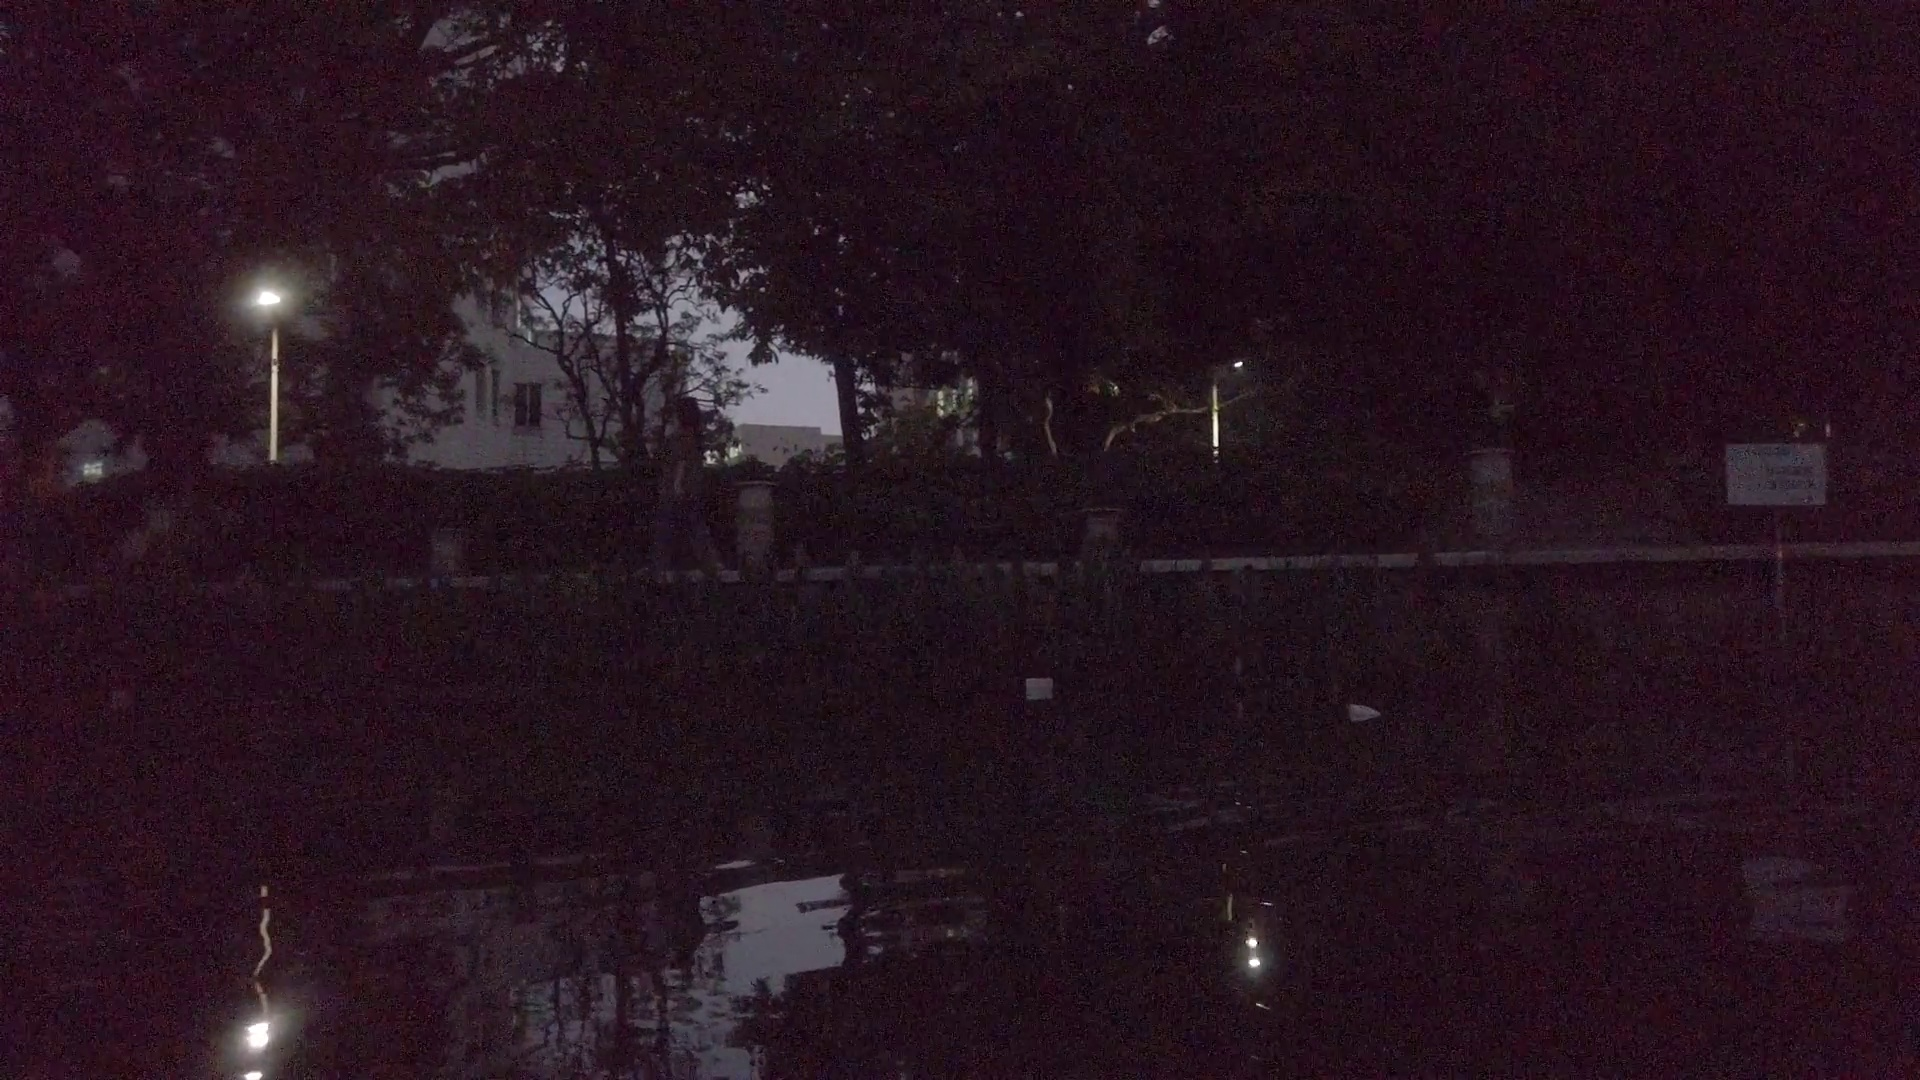carton: (1023, 675, 1051, 690), (1349, 705, 1375, 717)
